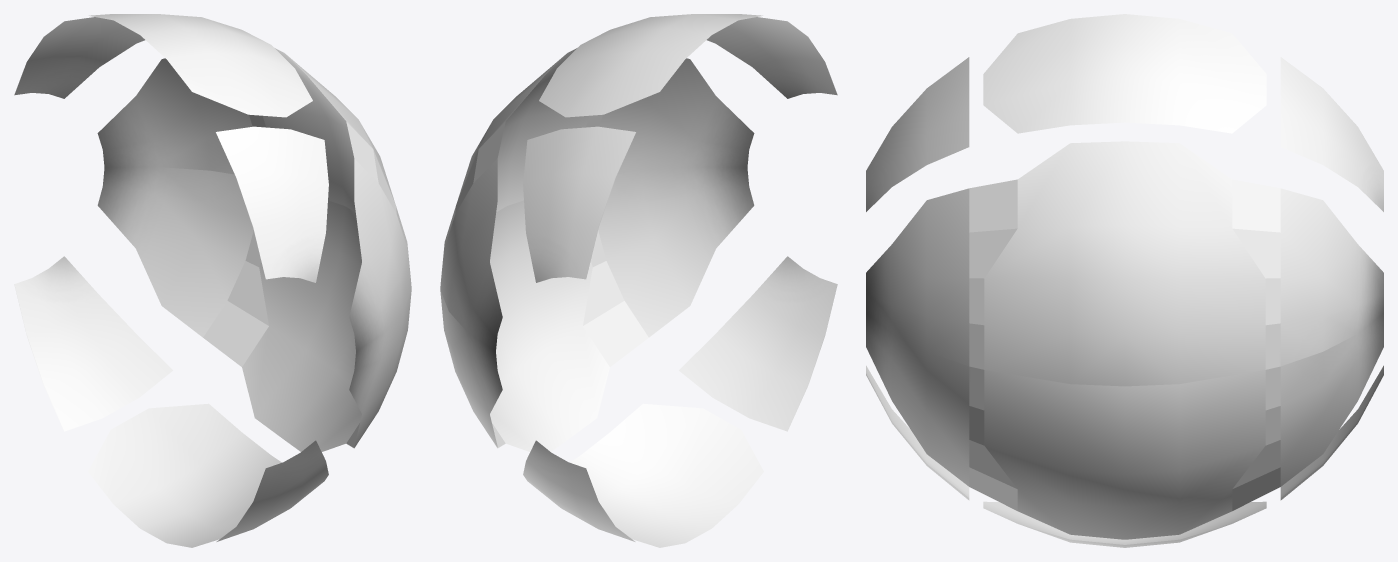
File: BubbleTurret_Glass_02.FBX
3 views of the same model, side by side, from view 1: azimuth 30°, elevation 25°; view 2: azimuth 150°, elevation 25°; view 3: azimuth 270°, elevation 25° (orthographic). The views are drawn at different scales.
Visible parts, largest first — view 1: TurretBall_Glass; view 2: TurretBall_Glass; view 3: TurretBall_Glass.
Part boxes in pixels (x1,y1,x2,y2): TurretBall_Glass: (14,14,411,547); TurretBall_Glass: (440,14,837,547); TurretBall_Glass: (866,14,1383,547).
Bounding box in the file's own units: 150 × 277 × 300.
Materials: 1 (1 with a texture image).
